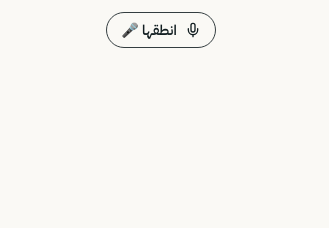
Test: showing the score › clears the score when the learner tries again
Click the button "انطقها 🎤" at (161, 30), box x1=106 y1=12 x2=216 y2=48
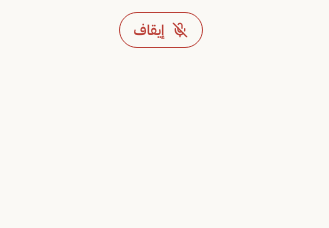
Click the button "إيقاف" at (161, 30), box x1=119 y1=12 x2=203 y2=48
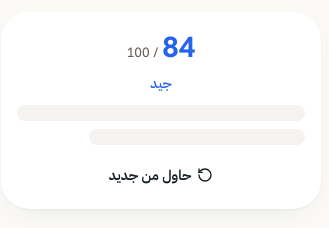
Expected: the text "84" is shown, x1=162 y1=27 x2=195 y2=65
Click the button "حاول من جديد" at (161, 175), box x1=95 y1=157 x2=227 y2=193
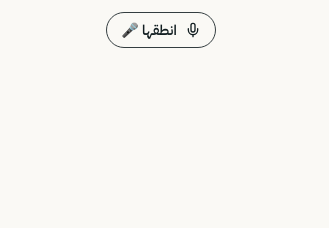
Expected: the text "84" is gone
Expected: the button "انطقها 🎤" is shown, x1=106 y1=12 x2=216 y2=48
